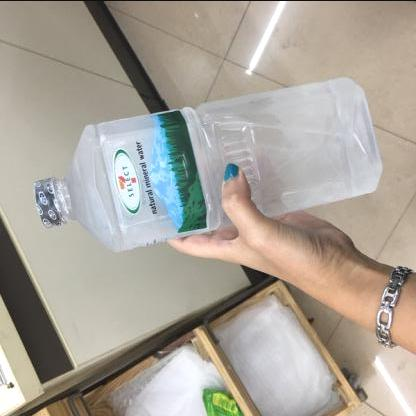bottle: (30, 71, 386, 250)
